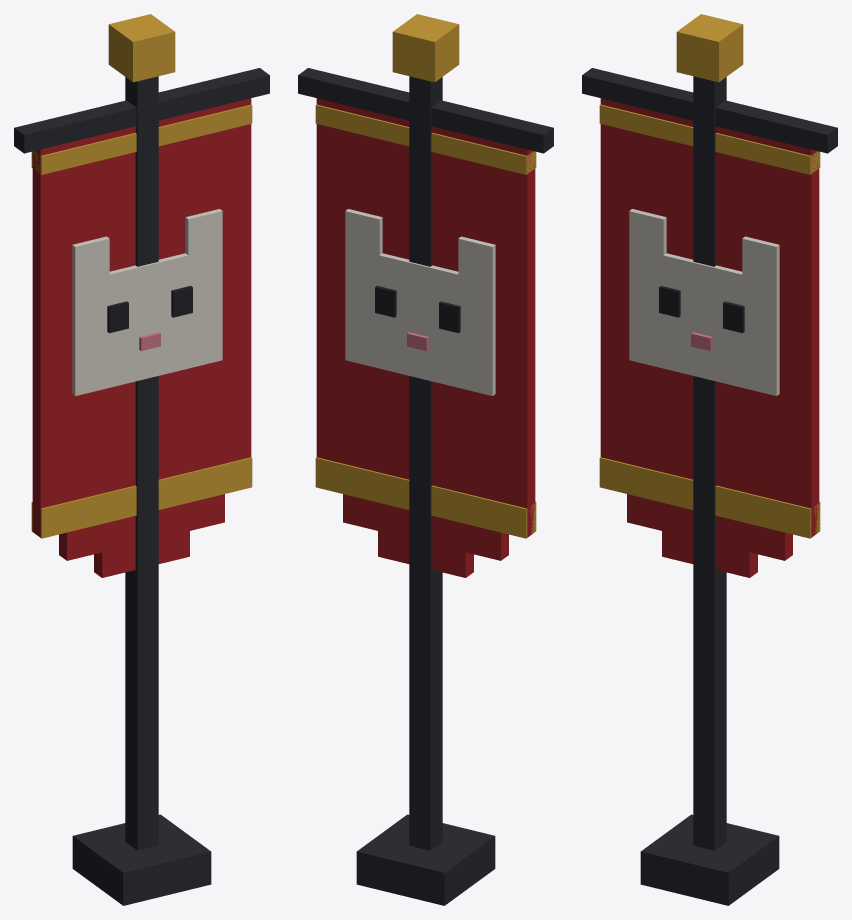
The model's file is th-banner.glb.
3 renders of one model, left to right at view 1: azimuth 30°, elevation 25°; view 2: azimuth 150°, elevation 25°; view 3: azimuth 330°, elevation 25°, orthographic.
Visible parts, largest first — view 1: box-prop; view 2: box-prop; view 3: box-prop.
Part boxes in pixels (left/top/right/bottom): box-prop: left=14, top=14, right=269, bottom=905; box-prop: left=298, top=14, right=553, bottom=905; box-prop: left=582, top=14, right=837, bottom=905.
Size of the model in its own units: 1.4 by 4.62 by 0.5.
